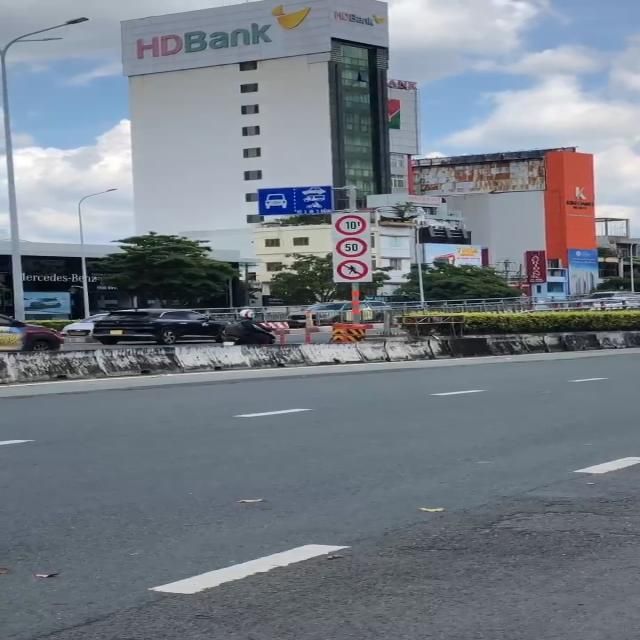Bien bao cam nguoi di bo: (336, 260, 373, 280)
Bien bao toc do toi da cho phep: (334, 236, 371, 259)
